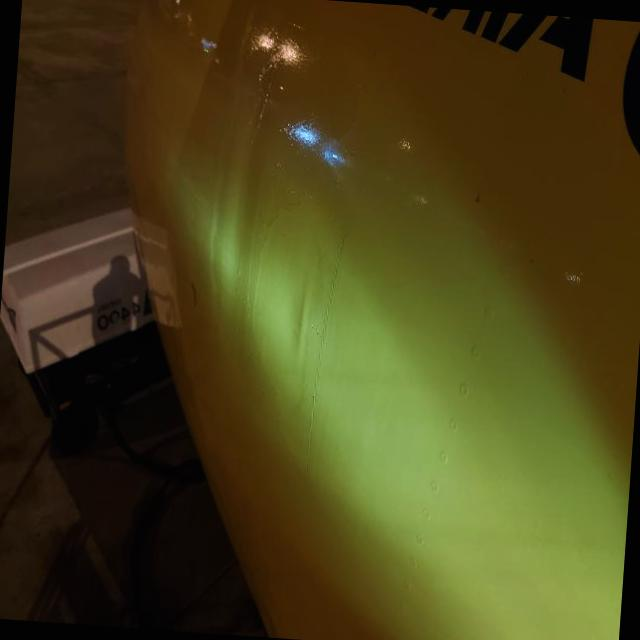dent: (234, 178, 346, 434), (190, 136, 253, 308)
